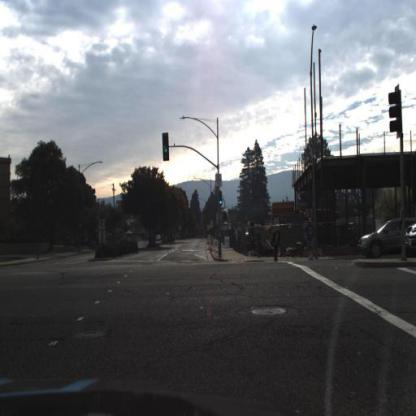car: (357, 219, 407, 261)
pedestrian: (306, 213, 316, 260), (272, 224, 282, 260)
trafficLight-Green: (163, 132, 172, 161), (218, 190, 224, 209)
